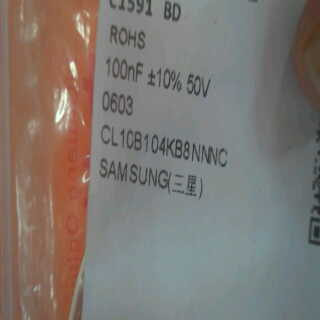100nF: (100, 47, 148, 87)
